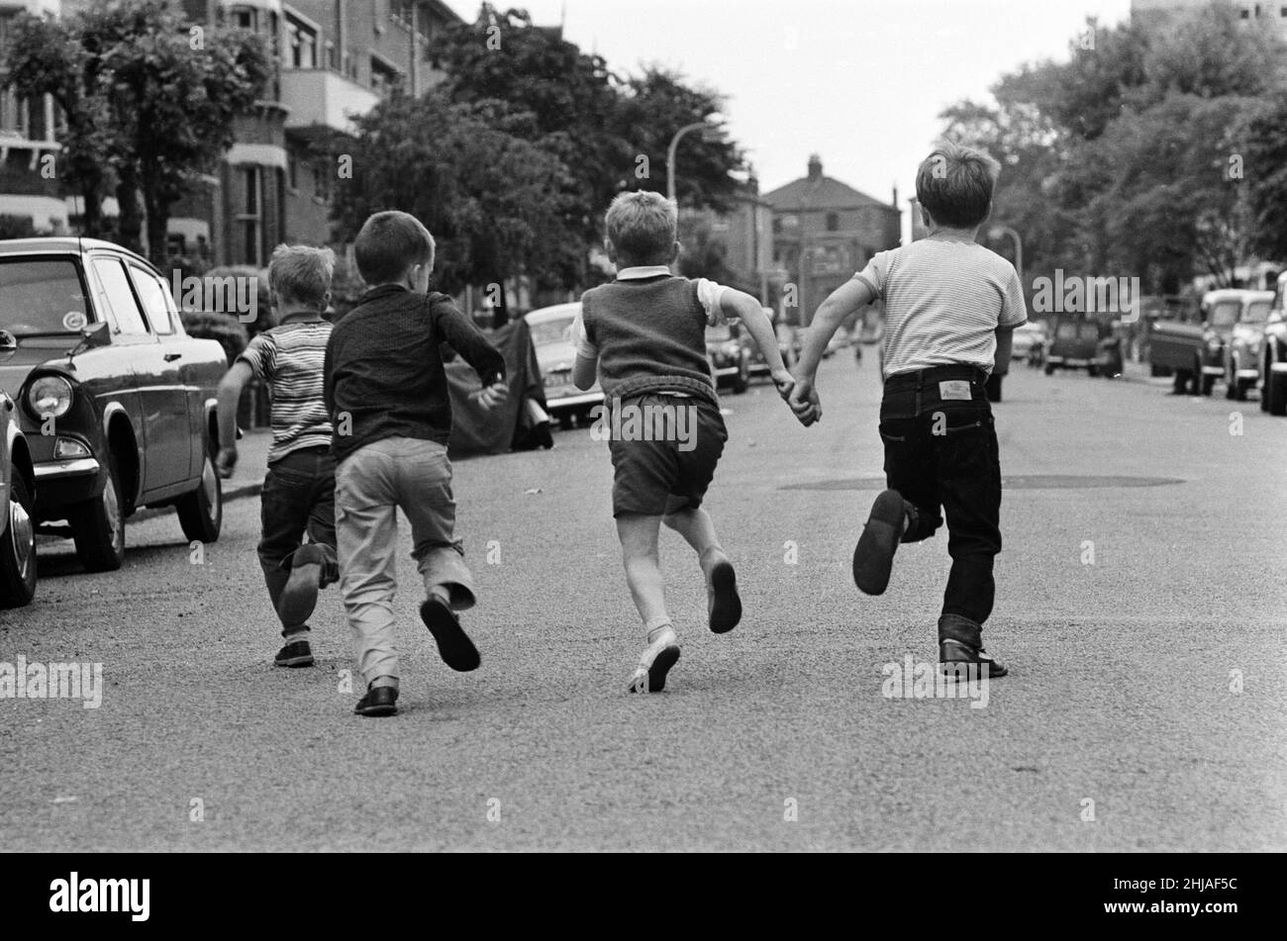Car: (6, 216, 225, 614)
Person: (790, 132, 1039, 704), (534, 175, 790, 730), (328, 197, 517, 718)
